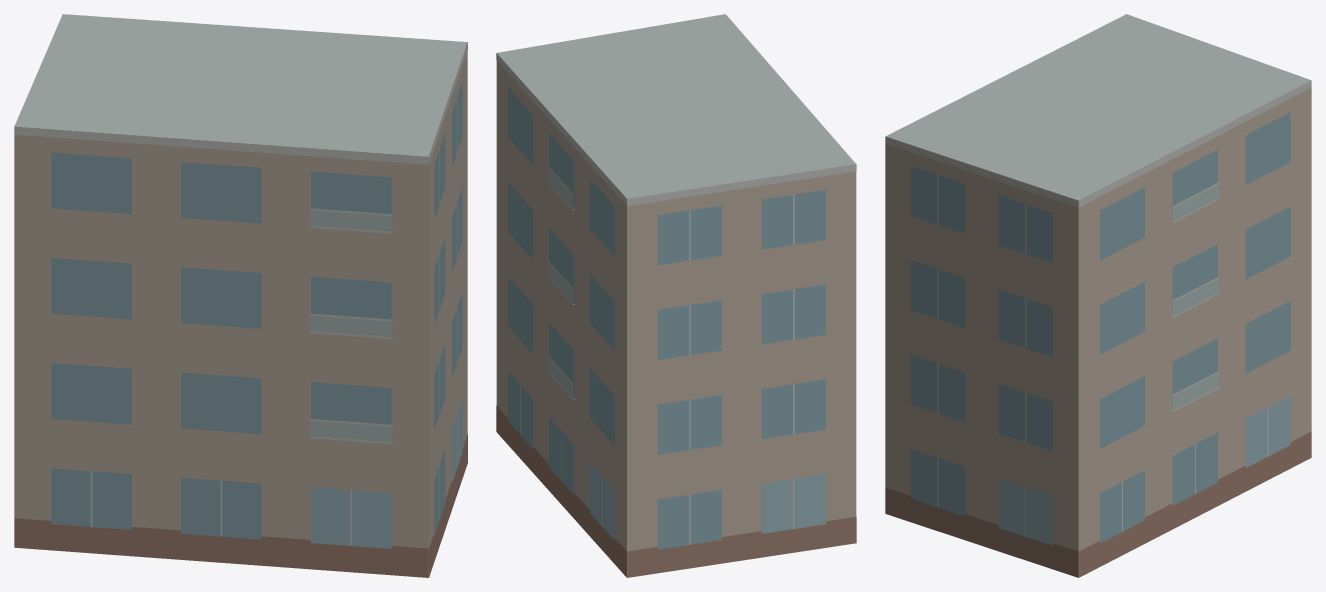
File: survey-upis-32747650.glb
The picture shows the model from 3 angles, left to right: view 1: azimuth 30°, elevation 25°; view 2: azimuth 150°, elevation 25°; view 3: azimuth 270°, elevation 25°; orthographic projection. The views are drawn at different scales.
Parts seen in each view (by area): view 1: survey-upis-32747650.tmp; view 2: survey-upis-32747650.tmp; view 3: survey-upis-32747650.tmp.
Boxes of the visible parts, bbox=[...] form: survey-upis-32747650.tmp: bbox=[14, 14, 467, 577]; survey-upis-32747650.tmp: bbox=[496, 14, 856, 577]; survey-upis-32747650.tmp: bbox=[885, 14, 1311, 577].
Bounding box in the file's own units: 13.53 × 12.75 × 13.06.
